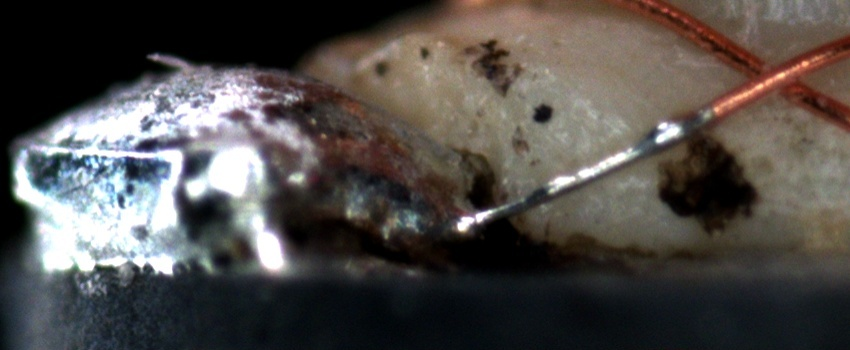CL: (726, 41, 825, 111)
TS: (474, 106, 713, 227)
TTCW: (441, 76, 763, 238)
